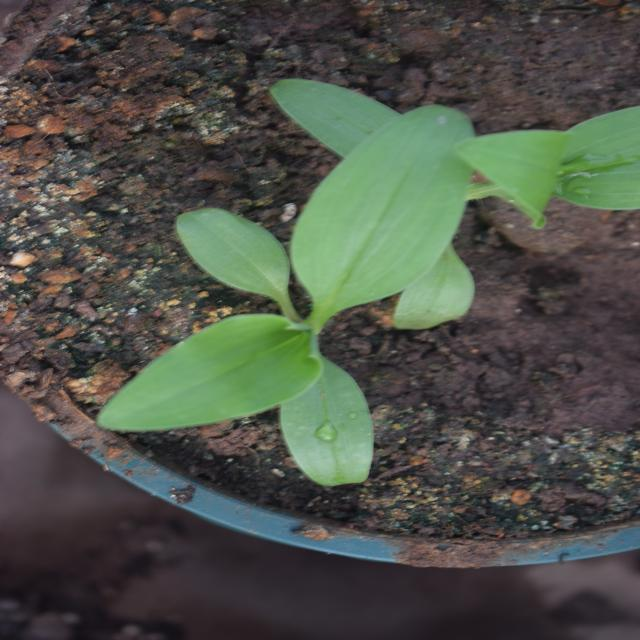Common Dayflower: (108, 134, 463, 543)
